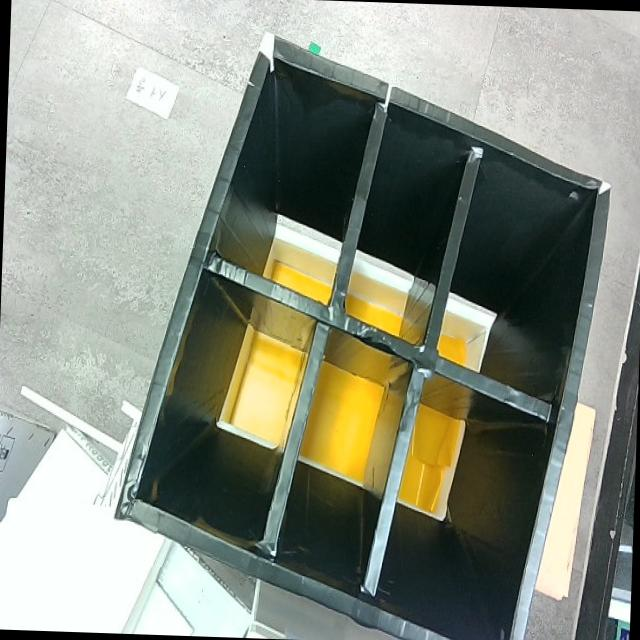box: (103, 14, 620, 640)
